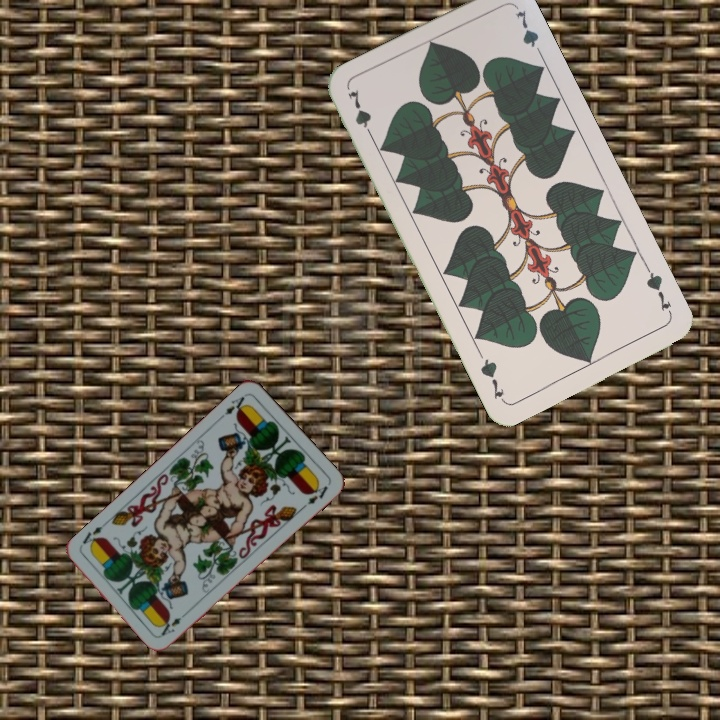EA: (215, 391, 251, 422), (157, 607, 191, 639)
G7: (343, 85, 377, 143), (642, 263, 675, 318)
